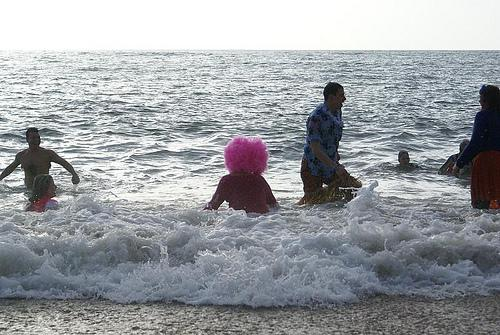human: (299, 80, 363, 203), (0, 128, 81, 195), (460, 84, 500, 213), (212, 170, 282, 220), (27, 174, 60, 212), (395, 150, 416, 169)
